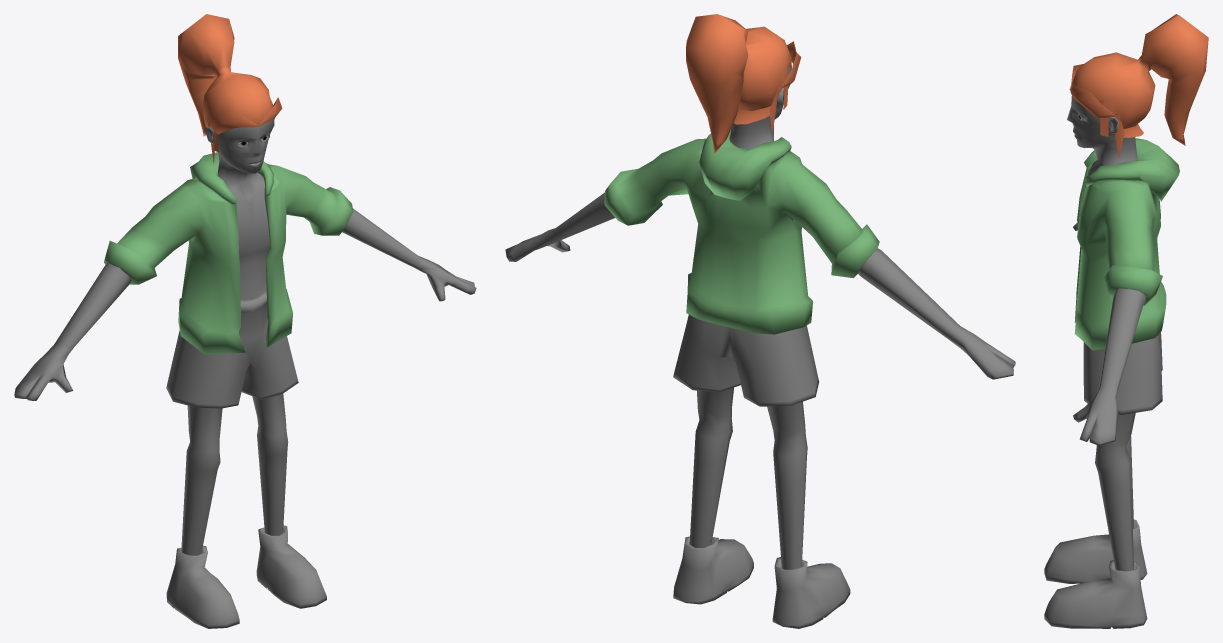
Rendered from GD-TPP-Character-2023-11-07-16.gltf.
3 views of the same model, side by side, from view 1: azimuth 30°, elevation 25°; view 2: azimuth 150°, elevation 25°; view 3: azimuth 270°, elevation 25° (orthographic). The views are drawn at different scales.
Visible parts, largest first — view 1: Character; view 2: Character; view 3: Character.
Boxes of the visible parts, x1=… form: Character: x1=14, y1=14, x2=476, y2=628; Character: x1=505, y1=14, x2=1015, y2=628; Character: x1=1044, y1=14, x2=1208, y2=628.
Bounding box in the file's own units: 3.47 × 4.01 × 1.03.
